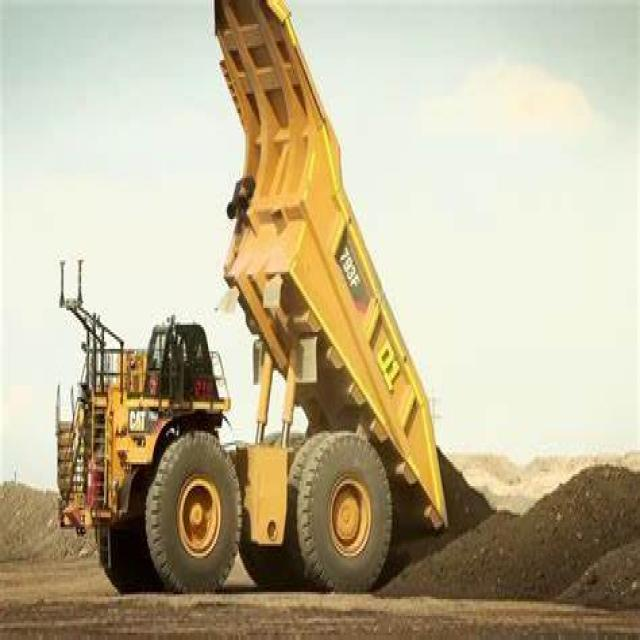dump_truck: (46, 2, 452, 618)
